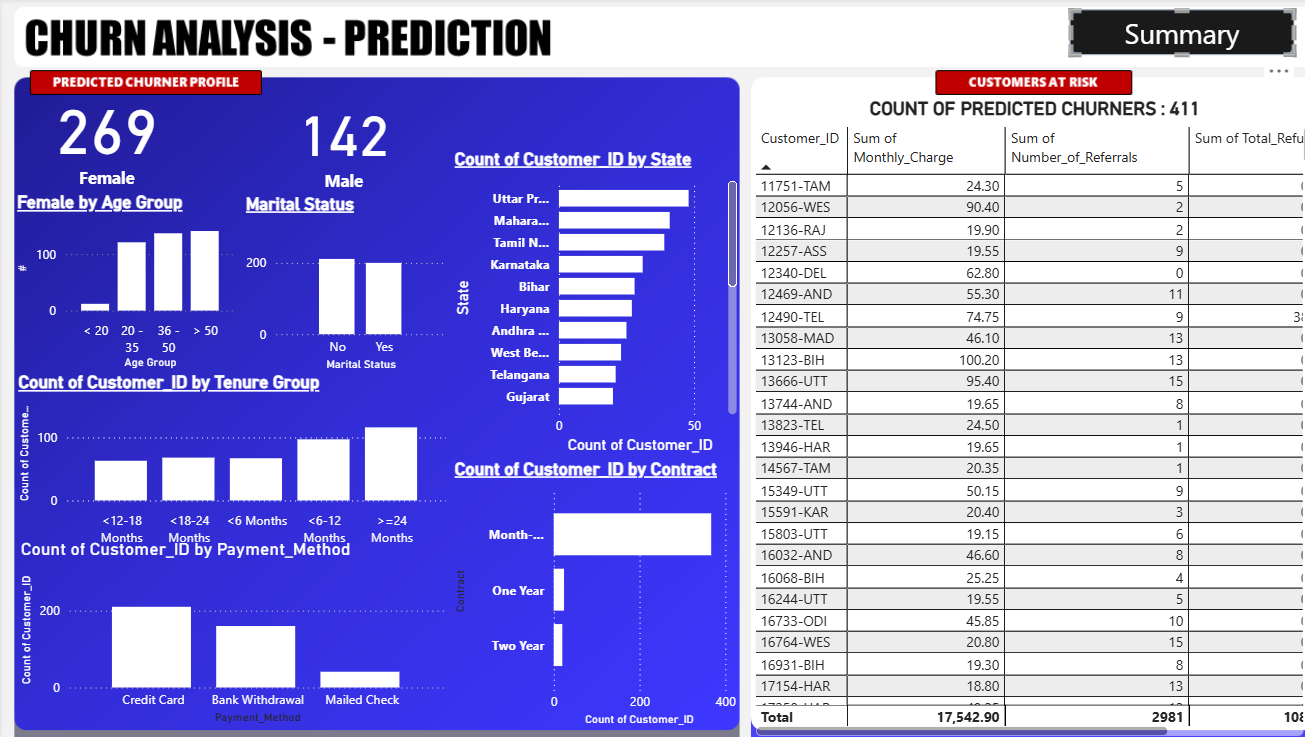

The page's visual inventory and layout, read from the dashboard file:
{"tool":"powerbi","page":{"name":"Churn Prediction","canvas":[1280,720],"ordinal":2},"visuals":[{"type":"tableEx","fields":{"Values":["vw_JoinData1.Customer_ID","Sum(vw_JoinData1.Monthly_Charge)","Sum(vw_JoinData1.Number_of_Referrals)","Sum(vw_JoinData1.Total_Refunds)","Sum(vw_JoinData1.Total_Revenue)"]},"box":[721.4,120,548.6,597.4],"z":0},{"type":"card","fields":{"Values":["tbl_Measures.Title Predicted Churners"]},"box":[714.3,77.7,565.7,60],"z":1000},{"type":"card","fields":{"Values":["tbl_Measures.Count Predicted Churner"]},"box":[27.4,67.7,147.1,128.6],"z":2000},{"type":"card","fields":{"Values":["tbl_Measures.Count Predicted Churner"]},"box":[255.7,66.3,148.6,142.9],"z":3000},{"type":"clusteredColumnChart","title":"Female by Age Group","fields":{"Category":["mapping_AgeGrp.Age Group"],"Y":["CountNonNull(vw_JoinData1.Customer_ID)"]},"box":[10,187.1,220,175.7],"z":4000},{"type":"clusteredColumnChart","title":"Marital Status","fields":{"Y":["CountNonNull(vw_JoinData1.Customer_ID)"],"Category":["vw_JoinData1.Married"]},"box":[230,188.6,202.9,176.3],"z":5000},{"type":"clusteredColumnChart","fields":{"Y":["CountNonNull(vw_JoinData1.Customer_ID)"],"Category":["mapping_tenuregrp.Tenure Group"]},"box":[11.4,360.3,422.9,175.4],"z":6000},{"type":"clusteredColumnChart","fields":{"Y":["CountNonNull(vw_JoinData1.Customer_ID)"],"Category":["vw_JoinData1.Payment_Method"]},"box":[12.9,521.4,420,184.3],"z":7000},{"type":"clusteredBarChart","fields":{"Category":["vw_JoinData1.Contract"],"Y":["CountNonNull(vw_JoinData1.Customer_ID)"]},"box":[431.4,444.3,281.4,263.4],"z":8000},{"type":"clusteredBarChart","fields":{"Category":["vw_JoinData1.State"],"Y":["CountNonNull(vw_JoinData1.Customer_ID)"]},"box":[431.4,144.3,282.3,300],"z":9000},{"type":"shape","box":[1030,11.4,217.1,44.3],"z":10000}]}

Visuals, with their boxes in screenshot pixels (x1, y1, x2, y2), scaled from the page's 1280x720 canvas onto the 1305x737 screenshot:
tableEx - vw_JoinData1.Customer_ID x Sum(vw_JoinData1.Monthly_Charge): (735,123,1295,734)
card - tbl_Measures.Title Predicted Churners: (728,80,1304,141)
card - tbl_Measures.Count Predicted Churner: (28,69,178,201)
card - tbl_Measures.Count Predicted Churner: (261,68,412,214)
"Female by Age Group" clusteredColumnChart: (10,192,234,371)
"Marital Status" clusteredColumnChart: (234,193,441,374)
clusteredColumnChart - CountNonNull(vw_JoinData1.Customer_ID) x mapping_tenuregrp.Tenure Group: (12,369,443,548)
clusteredColumnChart - CountNonNull(vw_JoinData1.Customer_ID) x vw_JoinData1.Payment_Method: (13,534,441,722)
clusteredBarChart - vw_JoinData1.Contract x CountNonNull(vw_JoinData1.Customer_ID): (440,455,727,724)
clusteredBarChart - vw_JoinData1.State x CountNonNull(vw_JoinData1.Customer_ID): (440,148,728,455)
shape: (1050,12,1271,57)
